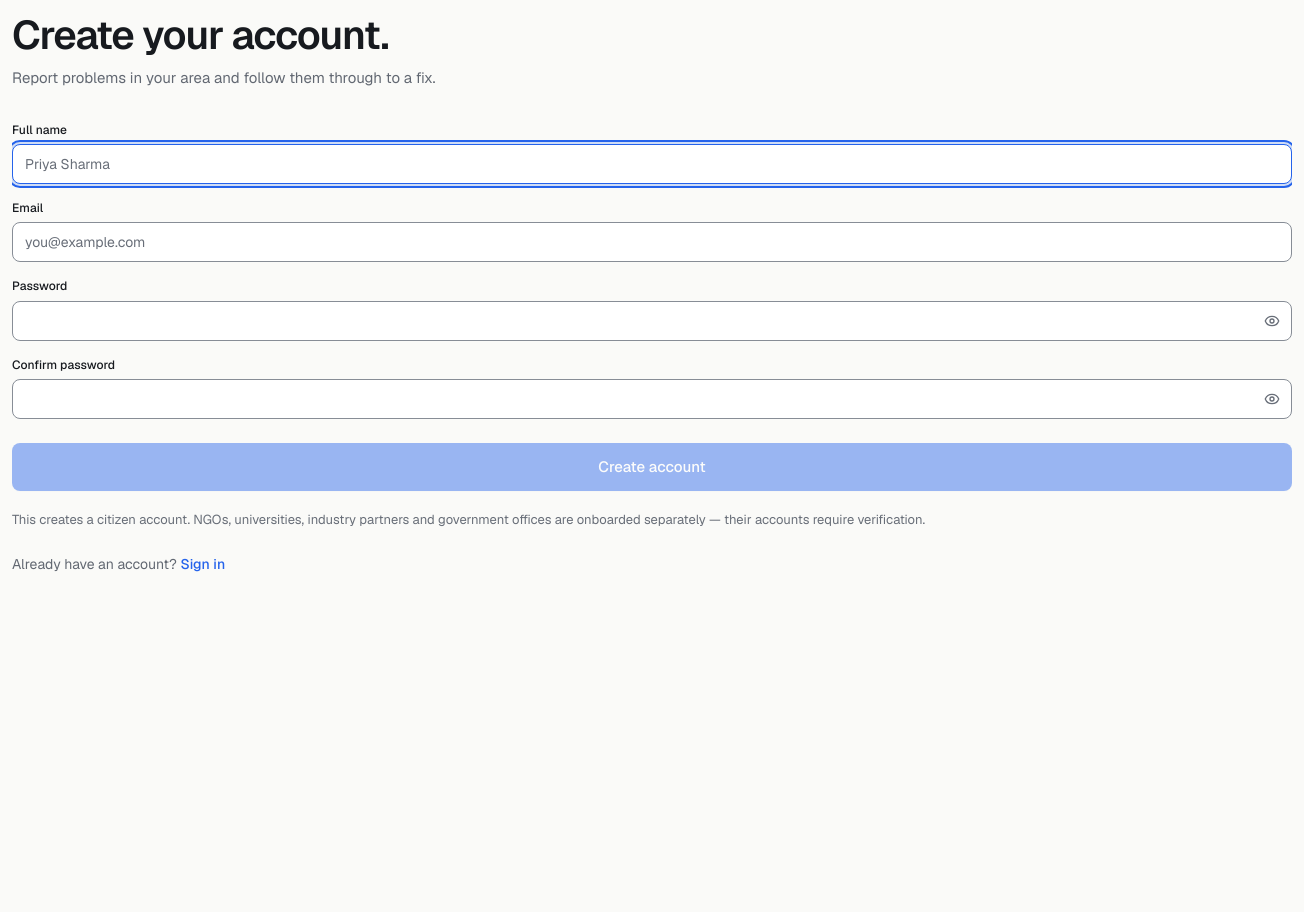
Test: RegisterForm › keeps submit disabled until every field is valid
Check: the button "Create account" is disabled, box [12, 443, 1292, 491]
Type "New Citizen" into the field labelled "Full name" at [652, 164], box [12, 144, 1292, 184]
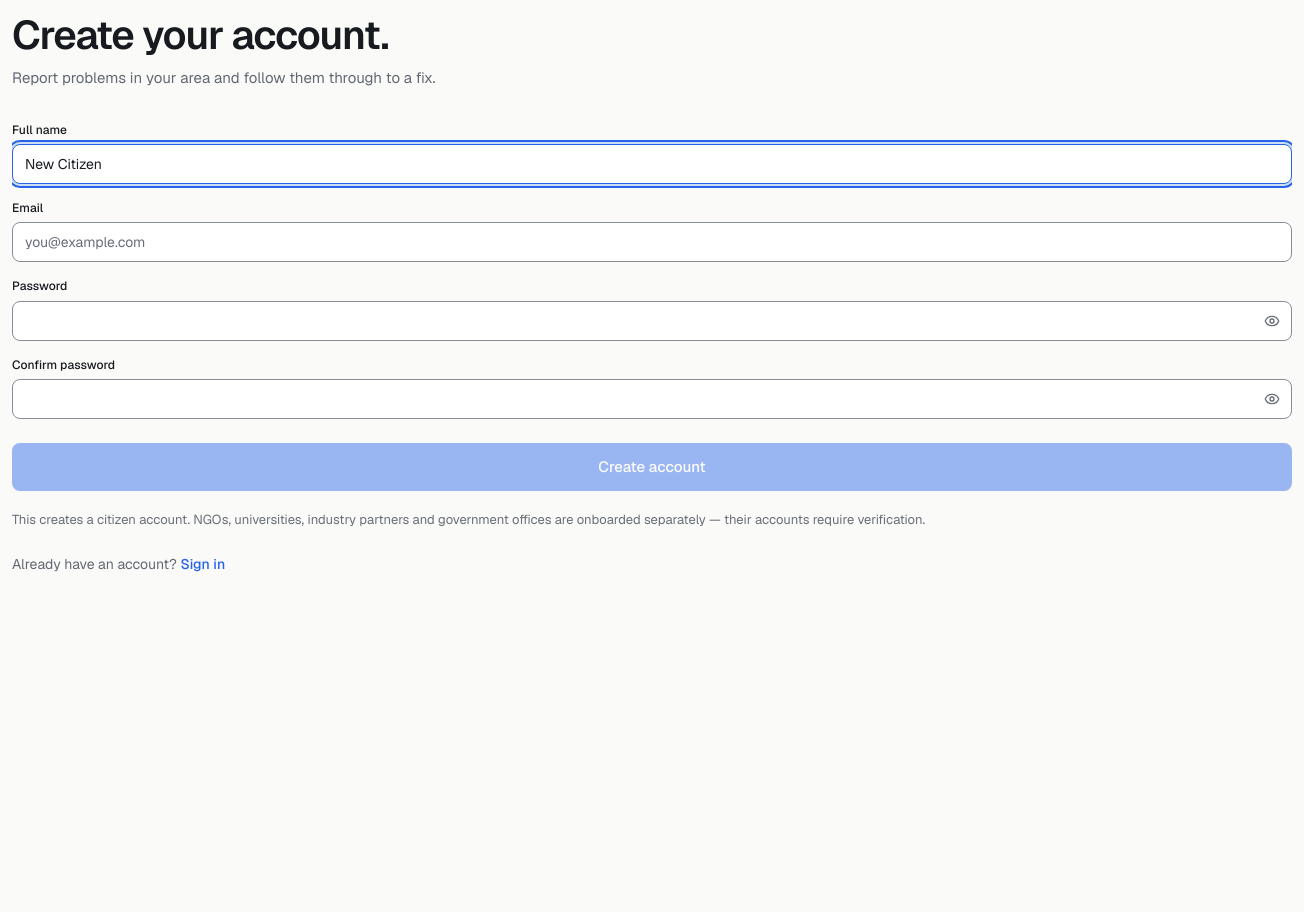
Type "new@example.com" into the field labelled "Email" at [652, 242], box [12, 222, 1292, 262]
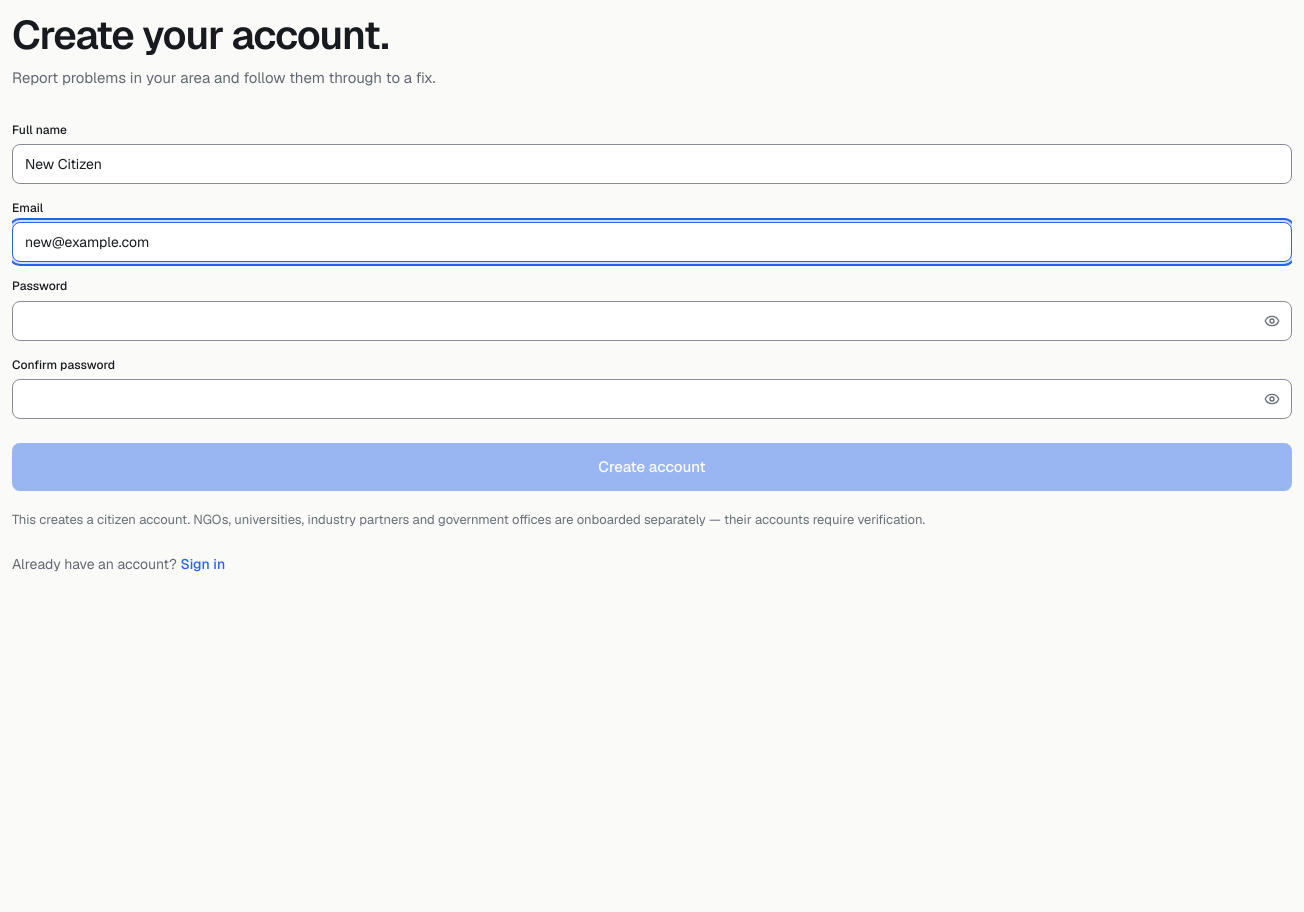
Type "Monsoon-Drain-2026" into the password field labelled "Password" at [652, 321], box [12, 301, 1292, 341]
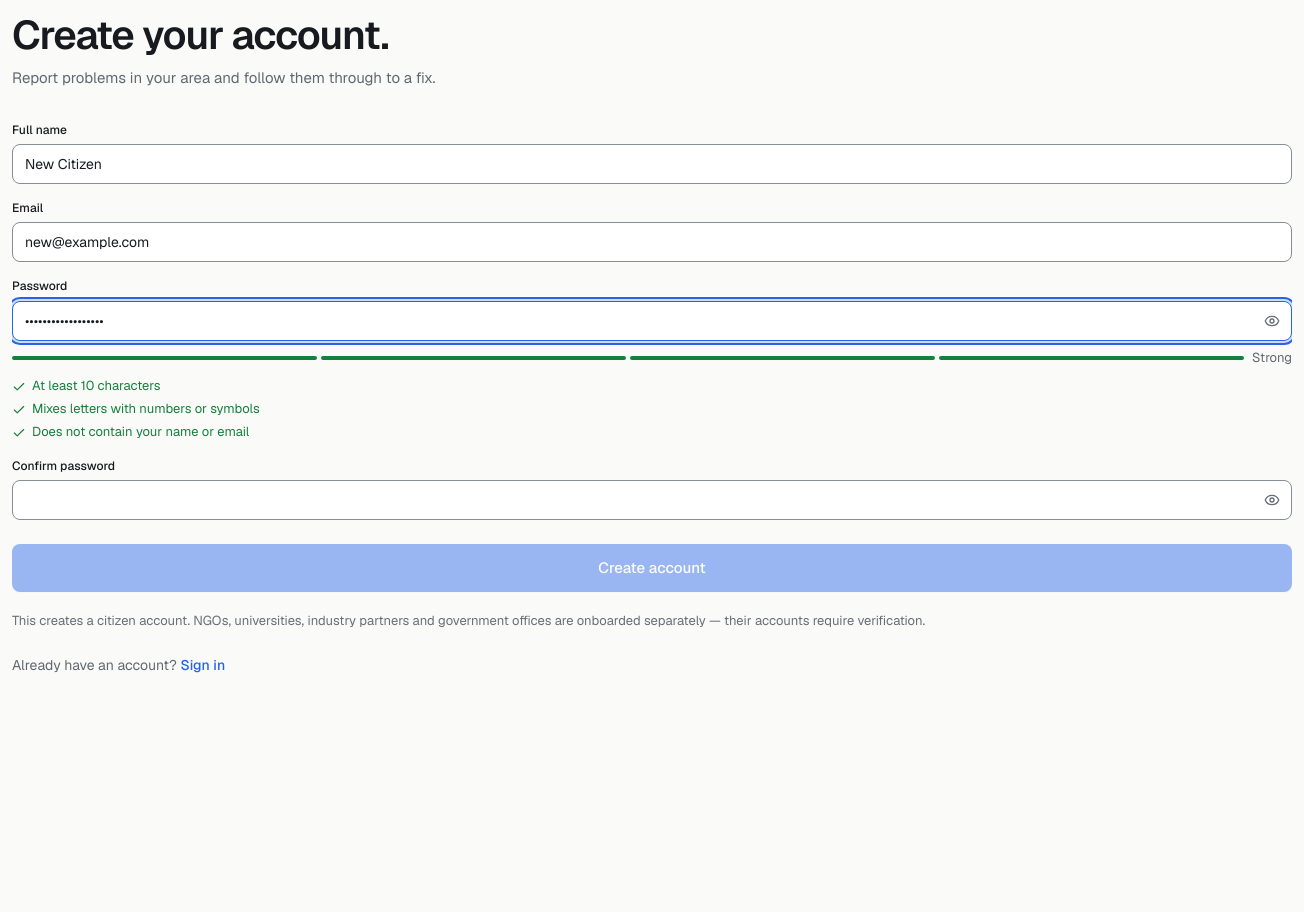
Type "Monsoon-Drain-2026" into the password field labelled "Confirm password" at [652, 500], box [12, 480, 1292, 520]
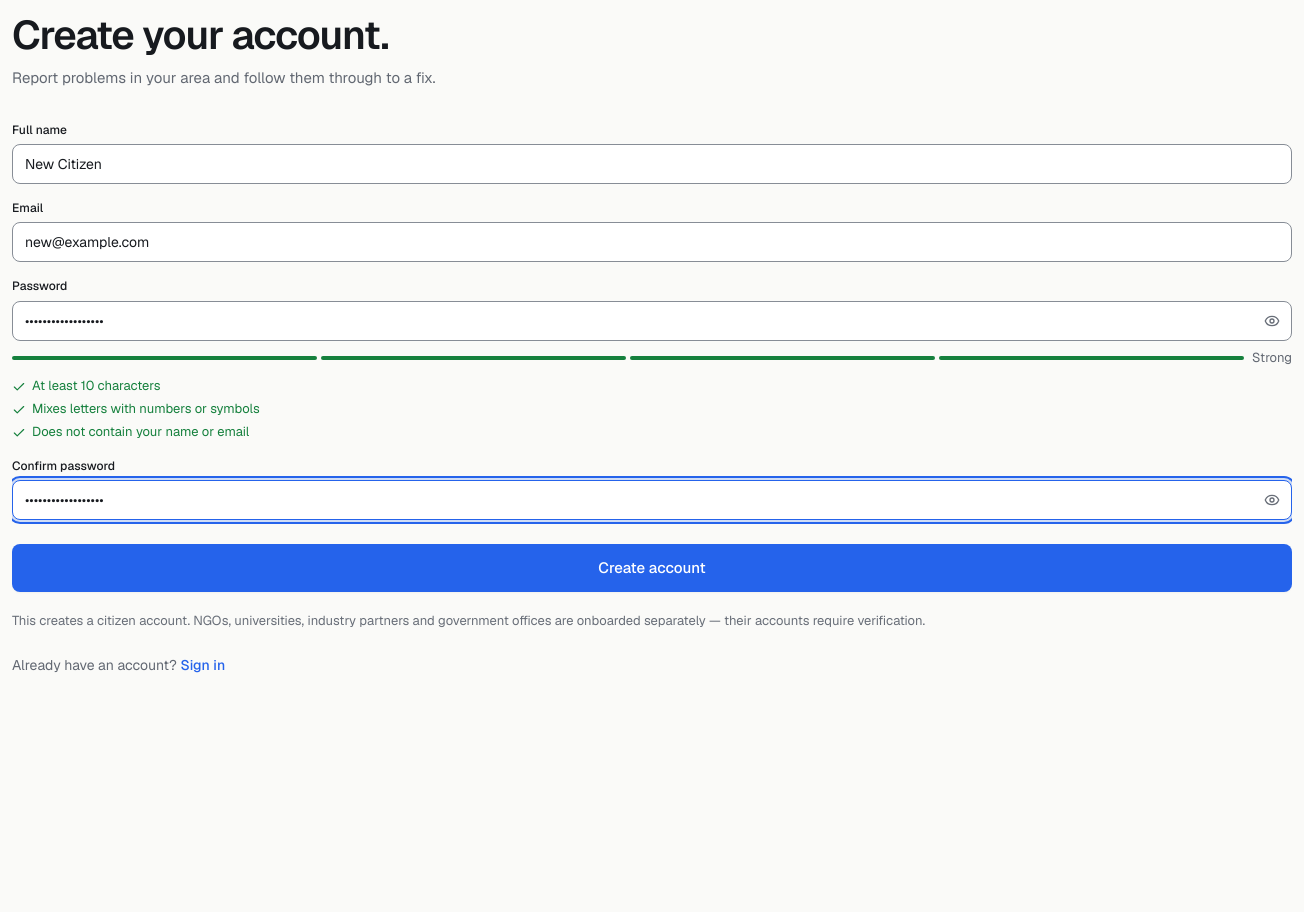
Check: the button "Create account" is enabled, box [12, 544, 1292, 592]
